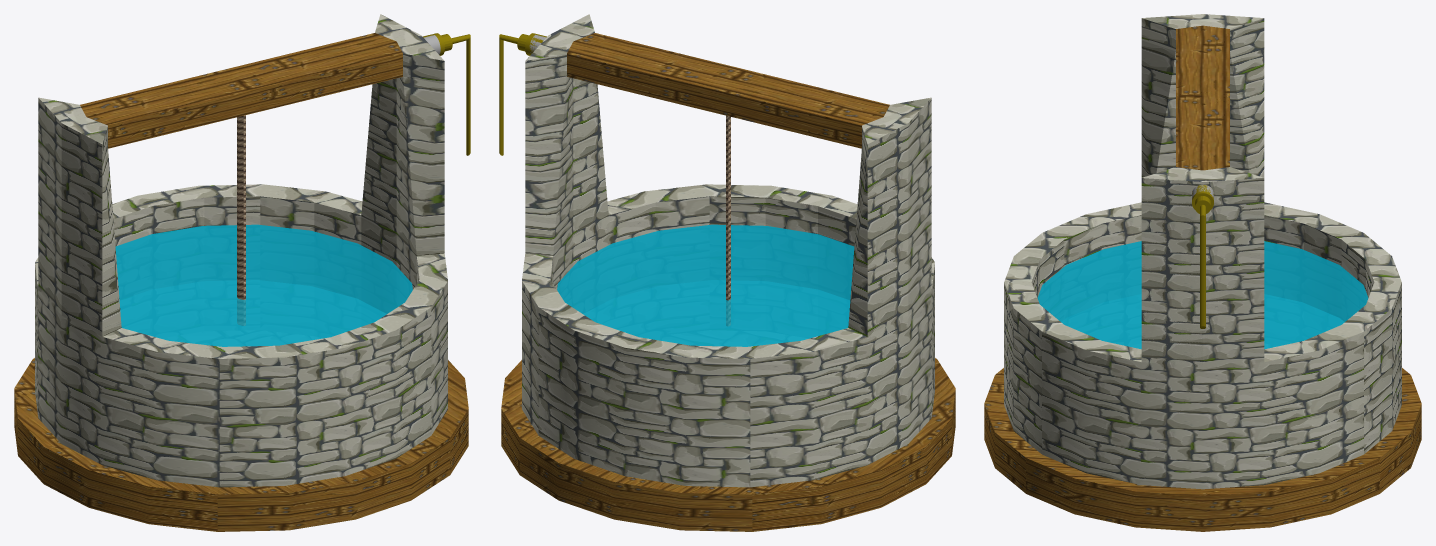
File: puit.fbx
3 renders of one model, left to right at view 1: azimuth 30°, elevation 25°; view 2: azimuth 150°, elevation 25°; view 3: azimuth 270°, elevation 25°, orthographic. The views are drawn at different scales.
Visible parts, largest first — view 1: polySurface8; view 2: polySurface8; view 3: polySurface8.
Part boxes in pixels (<box>): polySurface8: <box>14,14,470,531</box>; polySurface8: <box>499,14,955,531</box>; polySurface8: <box>984,14,1421,531</box>.
Bounding box in the file's own units: 42.56 × 34.01 × 39.5.
8 materials, 4 textured.
